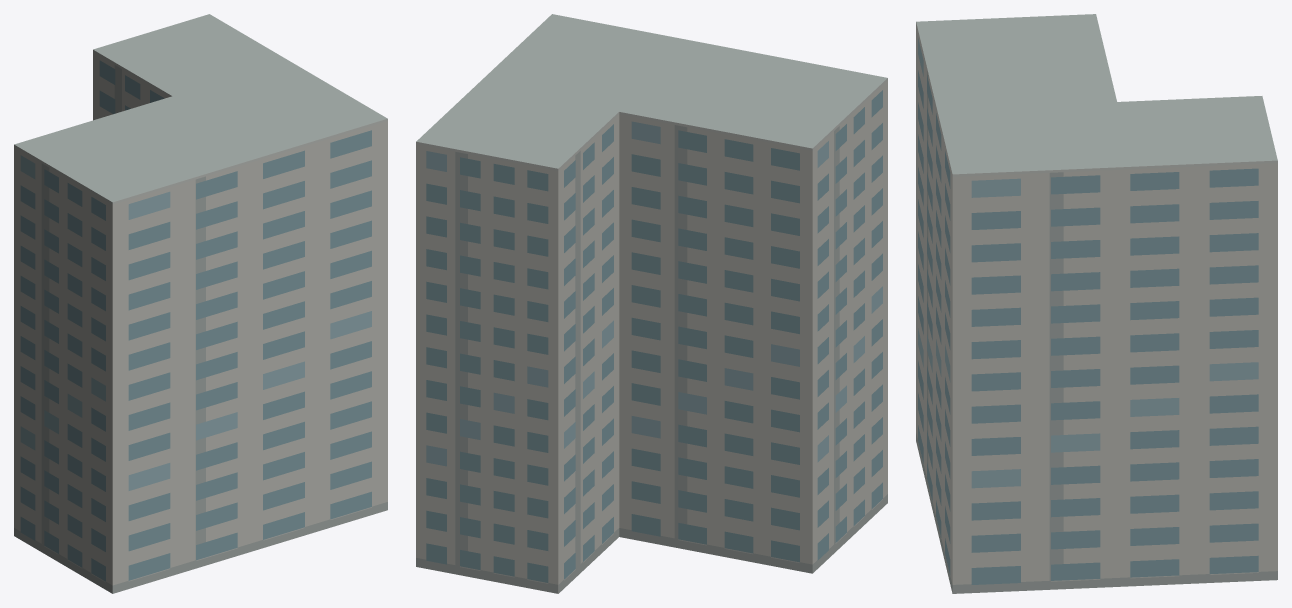
The model's file is residential-086bbcd2-118a-4360-934c-9f92c731298c.glb.
3 views of the same model, side by side, from view 1: azimuth 30°, elevation 25°; view 2: azimuth 150°, elevation 25°; view 3: azimuth 270°, elevation 25° (orthographic). The views are drawn at different scales.
Visible parts, largest first — view 1: residential-086bbcd2-118a-4360-934c-9f92c731298c.tmp; view 2: residential-086bbcd2-118a-4360-934c-9f92c731298c.tmp; view 3: residential-086bbcd2-118a-4360-934c-9f92c731298c.tmp.
Part boxes in pixels (x1,y1,x2,y2): residential-086bbcd2-118a-4360-934c-9f92c731298c.tmp: (14, 14, 387, 593); residential-086bbcd2-118a-4360-934c-9f92c731298c.tmp: (416, 14, 887, 593); residential-086bbcd2-118a-4360-934c-9f92c731298c.tmp: (916, 14, 1277, 593).
Size of the model in its own units: 32.81 by 40 by 31.27.
